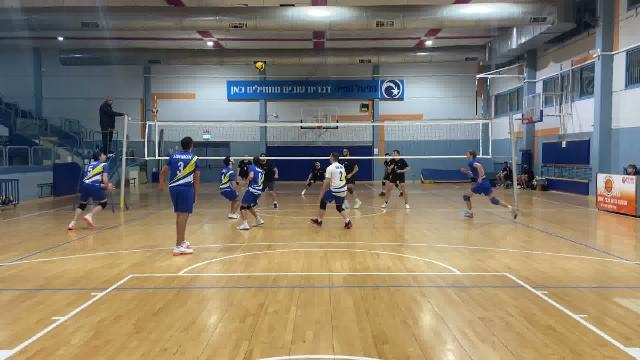ball: (256, 61, 265, 70)
